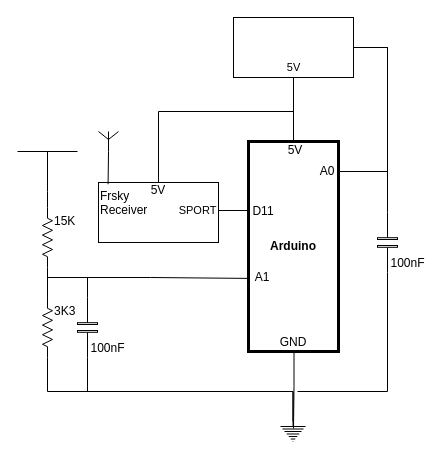
The diagram is 442 pixels wide and 459 high, and some of its shapes have lost their labels. The shapes that lost their labels are listed below. From the top down, each one's centre as x and y in pixels, then its label:
At (293,47): "Current Sensor".
At (47,171): "Vs".
